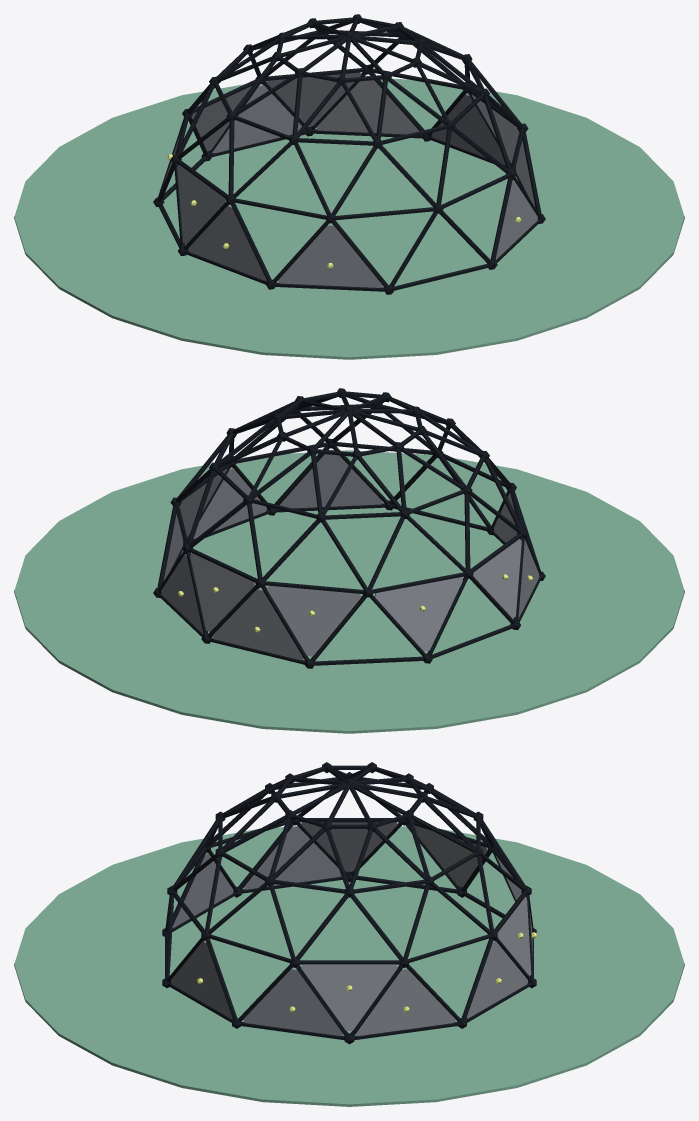
3 renders of one model, top to bottom at view 1: azimuth 30°, elevation 25°; view 2: azimuth 150°, elevation 25°; view 3: azimuth 270°, elevation 25°, orthographic.
Visible parts, largest first — view 1: Fall_Zone_Pad, Dome_Frame, Climb_Panels; view 2: Fall_Zone_Pad, Dome_Frame, Climb_Panels; view 3: Fall_Zone_Pad, Dome_Frame, Climb_Panels.
Part boxes in pixels (x1,y1,x2,y2): Fall_Zone_Pad: (14, 78, 684, 359); Dome_Frame: (153, 14, 545, 294); Climb_Panels: (164, 72, 537, 287); Fall_Zone_Pad: (14, 450, 684, 733); Dome_Frame: (153, 388, 545, 668); Climb_Panels: (161, 449, 539, 660); Fall_Zone_Pad: (14, 826, 684, 1106); Dome_Frame: (162, 762, 536, 1044); Climb_Panels: (170, 822, 532, 1035).
Size of what is drawn, in the model's own units: 7 by 2.14 by 7.
Materials: 4 (1 with a texture image).
